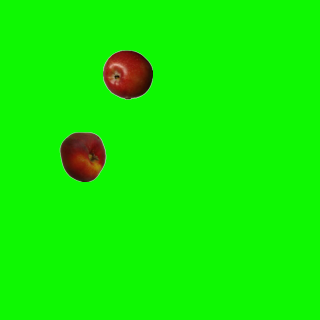Apple Braeburn: (102, 49, 152, 99)
Nectarine Flat: (57, 131, 107, 181)
